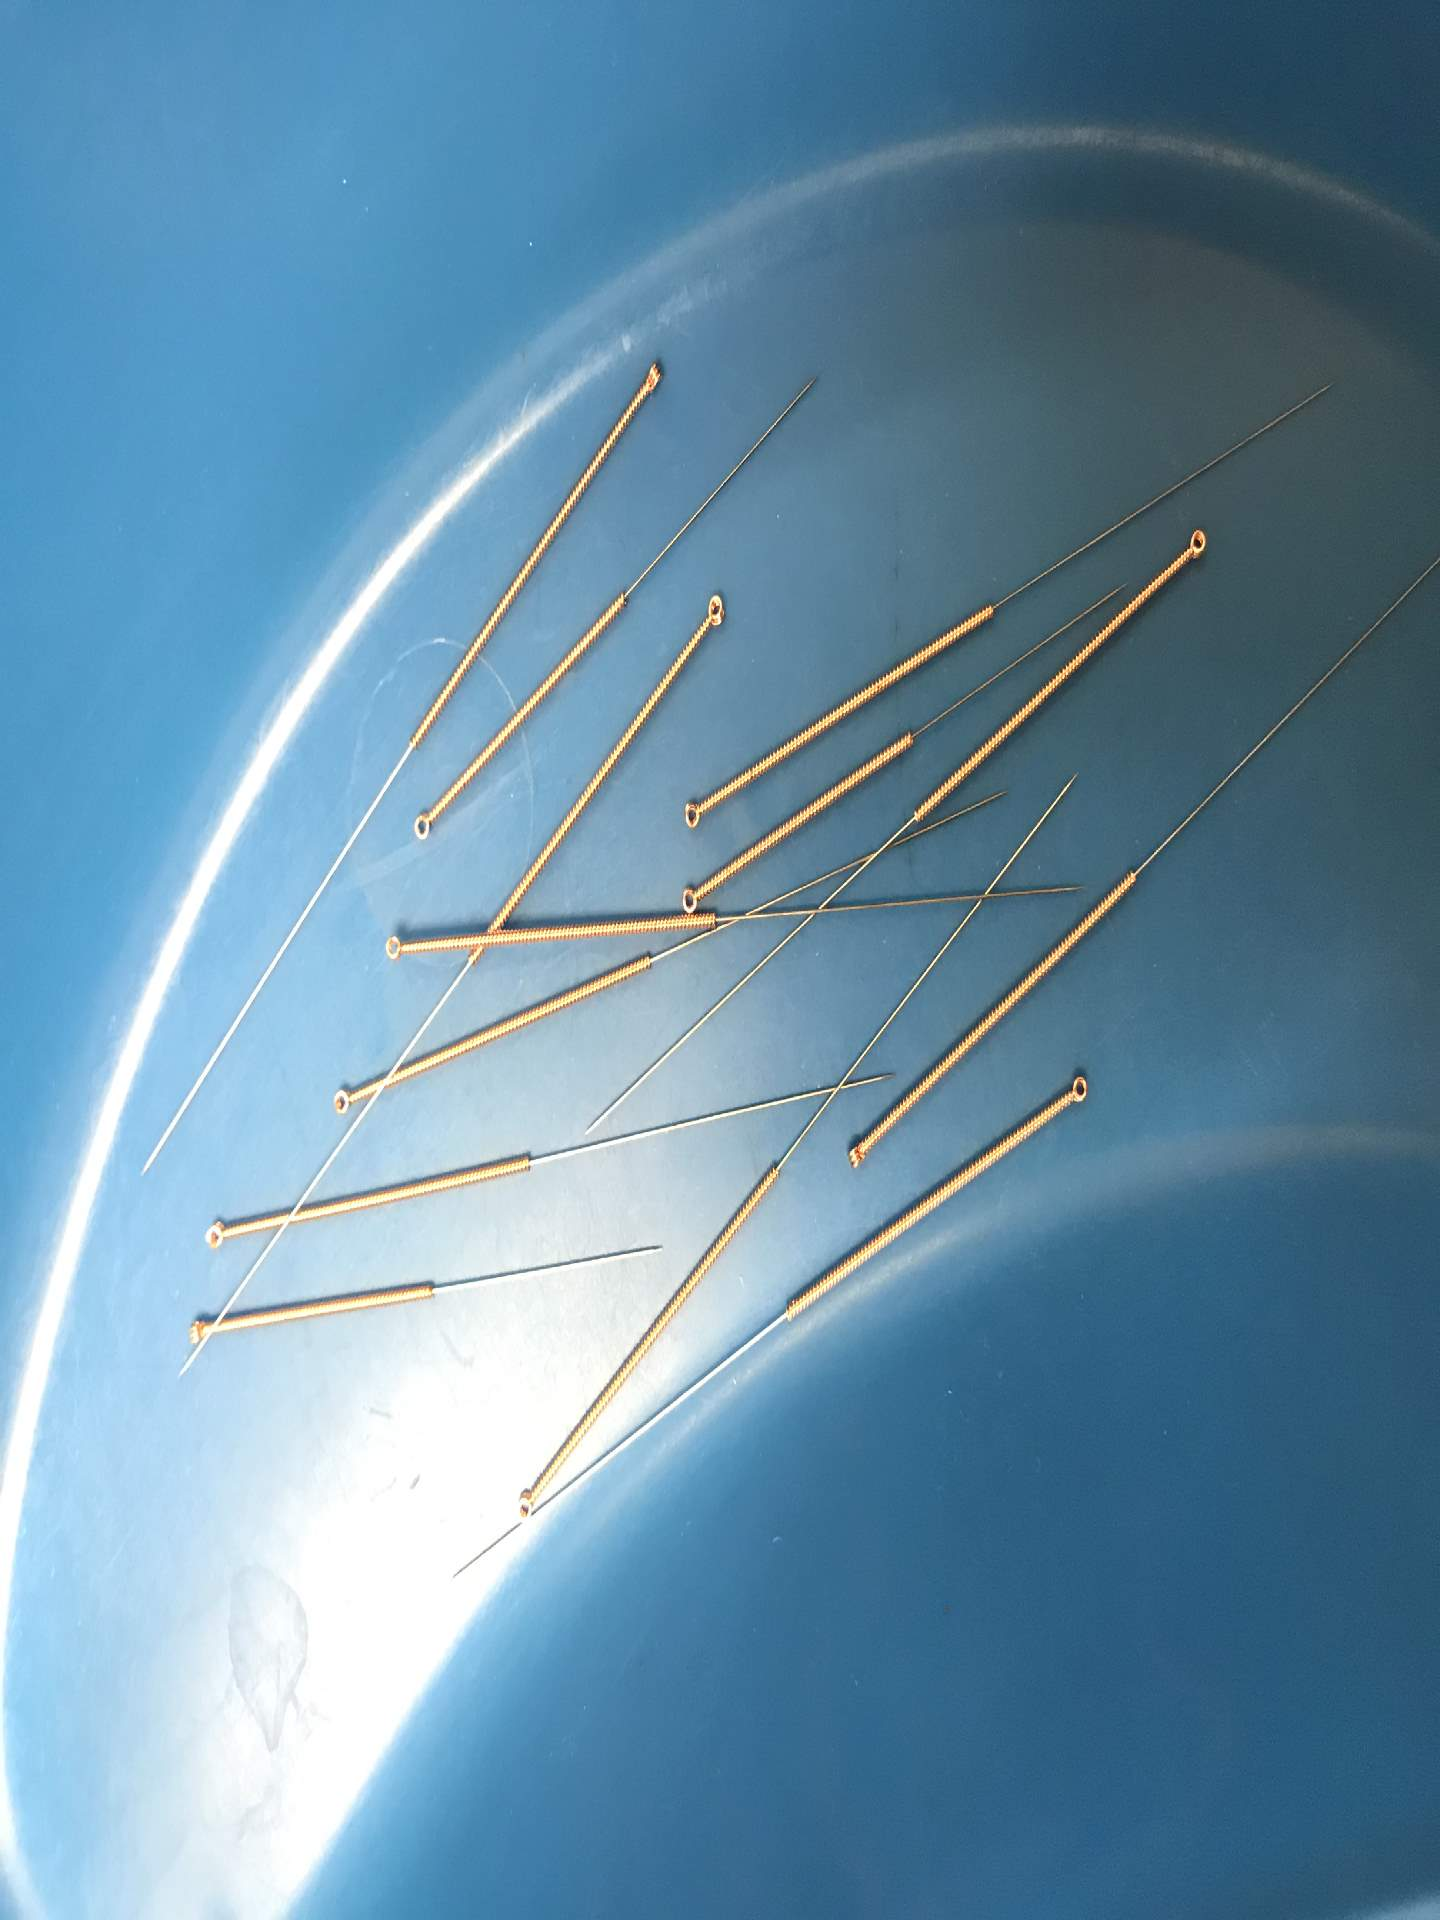needle: (631, 348, 675, 404), (693, 587, 737, 636), (401, 801, 445, 848), (1054, 1061, 1094, 1113), (374, 927, 417, 972), (1175, 519, 1216, 567), (836, 1123, 874, 1172), (180, 1308, 219, 1352), (510, 1479, 546, 1524), (195, 1211, 233, 1253), (673, 875, 711, 918), (675, 792, 712, 831), (324, 1079, 360, 1120)
